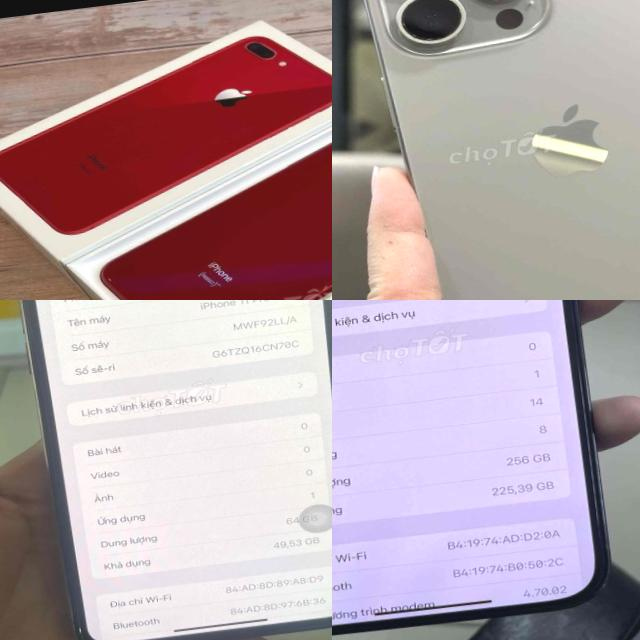gen_11: (0, 300, 332, 640)
gen_12_13: (332, 300, 621, 640)
gen_15: (332, 0, 640, 300)
gen_7_8: (98, 141, 332, 300)
